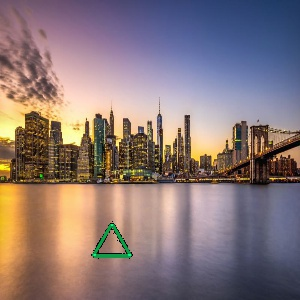triangle: (90, 218, 134, 260)
